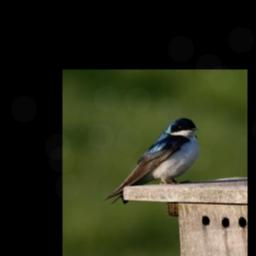Swallow: (103, 116, 201, 208)
